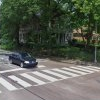crosswalk: (9, 66, 98, 87)
